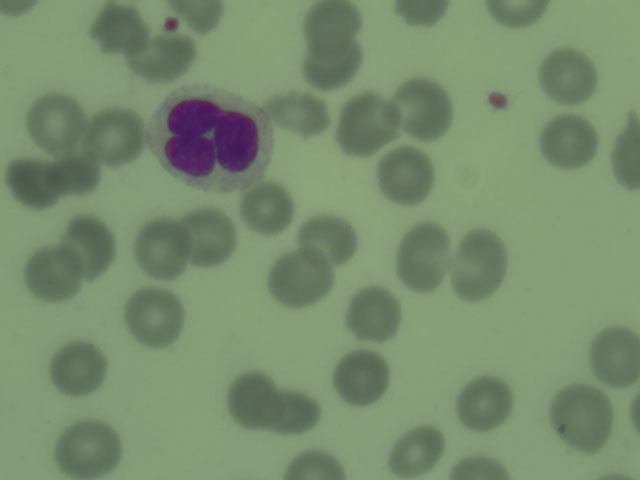Platelets: (484, 86, 511, 116), (159, 14, 188, 36)
RBC: (396, 223, 449, 295), (457, 226, 507, 299), (381, 149, 434, 205), (303, 211, 356, 265), (224, 376, 278, 429), (348, 287, 401, 340), (274, 252, 327, 305), (587, 334, 640, 387), (554, 391, 607, 444), (455, 380, 508, 433), (389, 427, 442, 480), (335, 357, 388, 410), (541, 113, 594, 166), (543, 47, 596, 100), (398, 79, 451, 132), (338, 98, 391, 151), (272, 88, 325, 141), (239, 181, 292, 234), (59, 420, 112, 473), (52, 341, 105, 394), (126, 289, 179, 342), (182, 210, 235, 263), (137, 222, 190, 275), (62, 219, 115, 272), (306, 37, 359, 90), (5, 160, 58, 213), (89, 109, 142, 162), (31, 95, 84, 148), (91, 2, 144, 55), (602, 117, 640, 190), (305, 1, 358, 53), (265, 389, 324, 435), (26, 248, 76, 299), (131, 43, 193, 83), (449, 446, 515, 480), (281, 444, 343, 480), (477, 1, 559, 26), (47, 156, 95, 195), (183, 1, 232, 38), (385, 1, 451, 26)
WBC: (154, 82, 264, 193)
